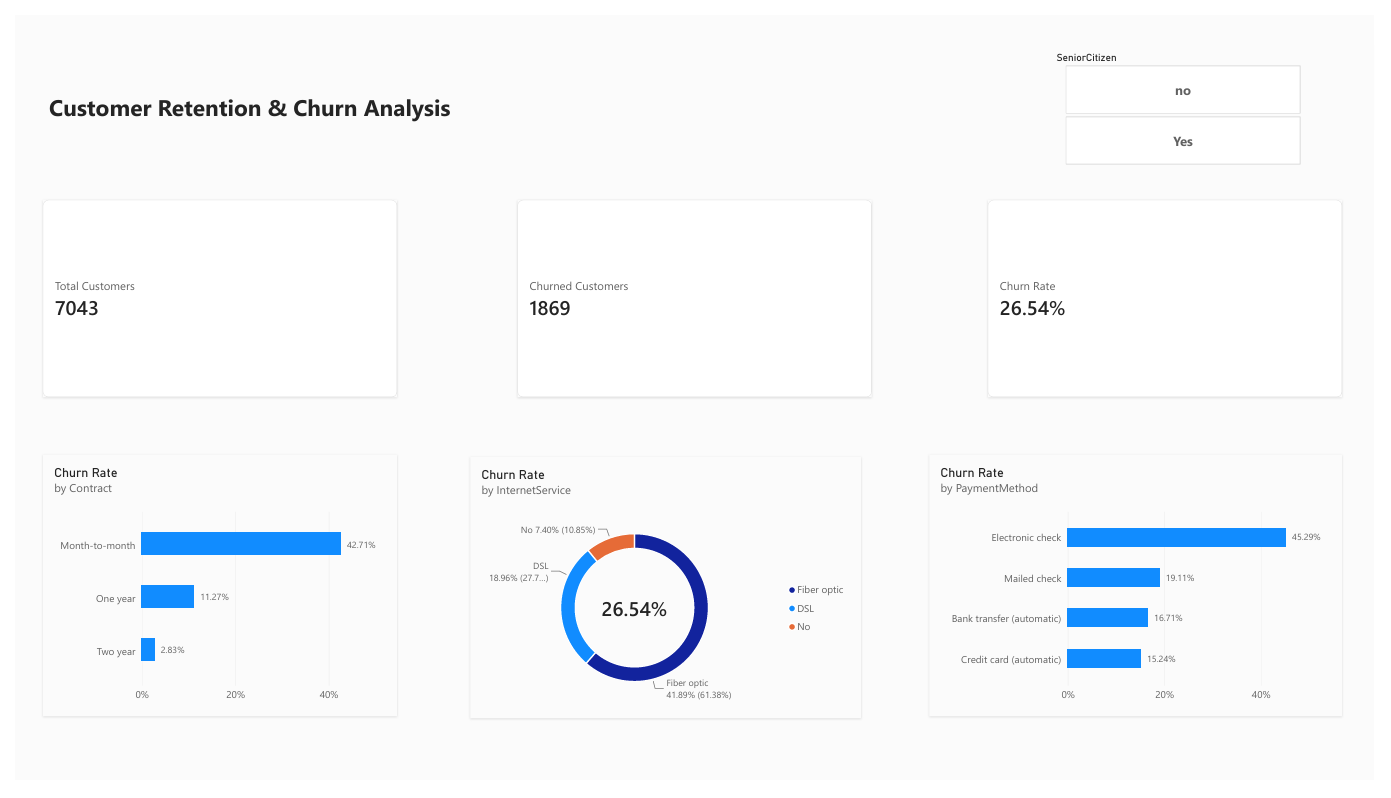

Layout of this report page (visuals, bound fields, positions):
{"tool":"powerbi","page":{"name":"Churn Overview","canvas":[1920,1080],"ordinal":0},"visuals":[{"type":"cardVisual","fields":{"Data":["Telco_Churn.Churn Rate"]},"box":[1374.3,260.1,501,279.2],"z":0},{"type":"cardVisual","fields":{"Data":["Telco_Churn.Total Customers"]},"box":[38.2,260.1,501,279.2],"z":1},{"type":"cardVisual","fields":{"Data":["Telco_Churn.Churned Customers"]},"box":[708.6,260.1,501,279.2],"z":2},{"type":"clusteredBarChart","fields":{"Category":["Telco_Churn.Contract"],"Y":["Telco_Churn.Churn Rate"]},"box":[38.2,620.3,501,369.8],"z":3},{"type":"donutChart","fields":{"Category":["Telco_Churn.InternetService"],"Y":["Telco_Churn.Churn Rate"]},"box":[641.8,622.7,553.5,369.8],"z":4},{"type":"clusteredBarChart","fields":{"Category":["Telco_Churn.PaymentMethod"],"Y":["Telco_Churn.Churn Rate"]},"box":[1290.8,620.3,584.5,369.8],"z":5},{"type":"slicer","fields":{"Values":["Telco_Churn.SeniorCitizen"]},"box":[1462.6,50.1,372.2,162.2],"z":6},{"type":"textbox","box":[38,50,501,210],"z":7},{"type":"textbox","box":[38.2,50.1,644.2,162.2],"z":8}]}

Visuals, with their boxes in screenshot pixels (x1, y1, x2, y2), scaled from the page's 1920x1080 canvas onto the 1391x798 screenshot:
cardVisual - Telco_Churn.Churn Rate: box=[996, 192, 1359, 398]
cardVisual - Telco_Churn.Total Customers: box=[28, 192, 391, 398]
cardVisual - Telco_Churn.Churned Customers: box=[513, 192, 876, 398]
clusteredBarChart - Telco_Churn.Contract x Telco_Churn.Churn Rate: box=[28, 458, 391, 732]
donutChart - Telco_Churn.InternetService x Telco_Churn.Churn Rate: box=[465, 460, 866, 733]
clusteredBarChart - Telco_Churn.PaymentMethod x Telco_Churn.Churn Rate: box=[935, 458, 1359, 732]
slicer - Telco_Churn.SeniorCitizen: box=[1060, 37, 1329, 157]
textbox: box=[28, 37, 390, 192]
textbox: box=[28, 37, 494, 157]
